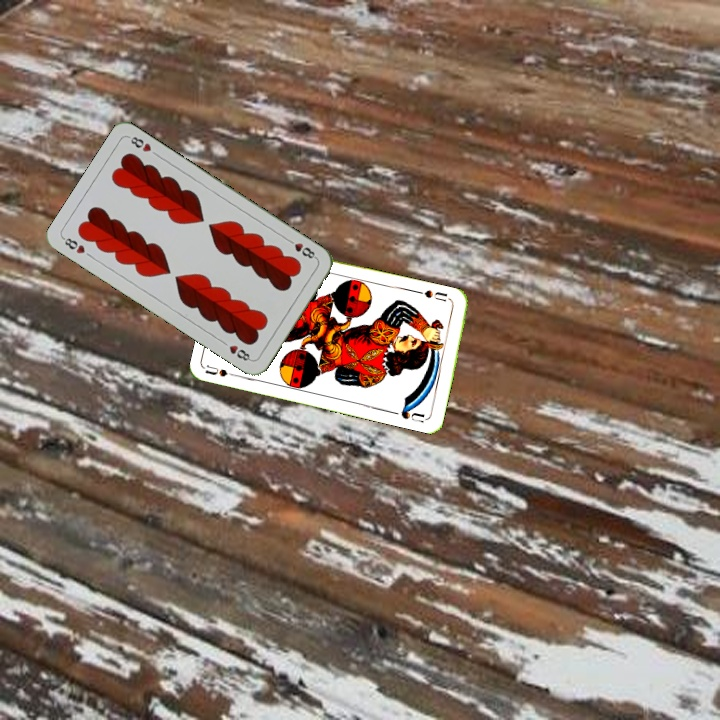H8: (283, 235, 319, 262), (59, 234, 95, 261)
SU: (203, 361, 244, 380), (420, 286, 450, 304)
